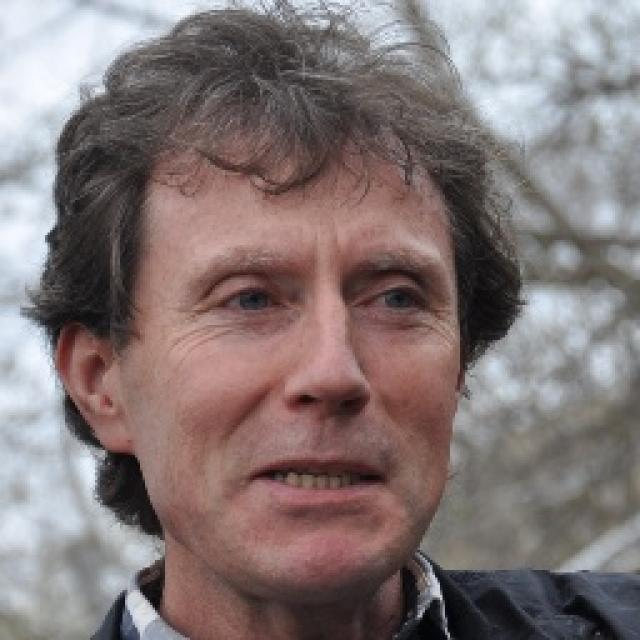earlobe: (85, 401, 132, 455)
eye: (203, 282, 288, 314), (358, 284, 424, 316)
nose: (282, 395, 371, 455)
wholeear: (54, 320, 133, 455)
